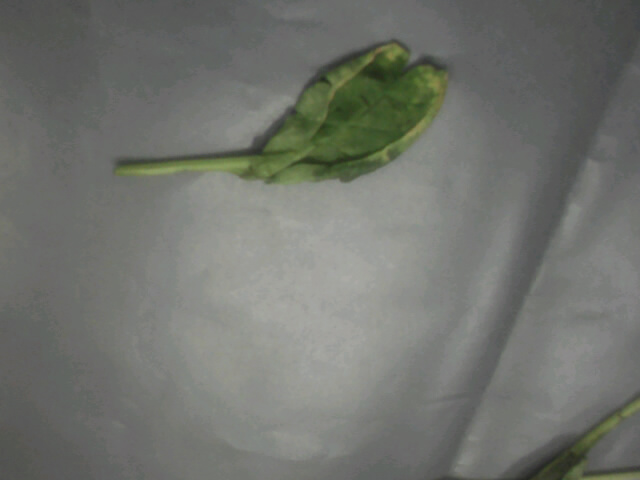yellow: (236, 39, 454, 192)
